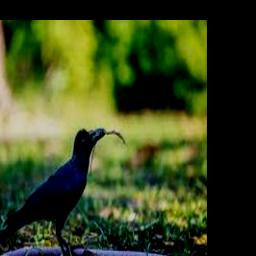Crow: (0, 129, 105, 252)
